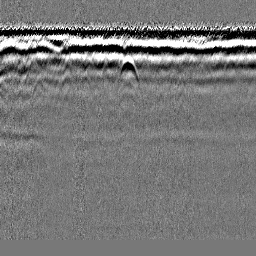cavity: (117, 54, 140, 88)
